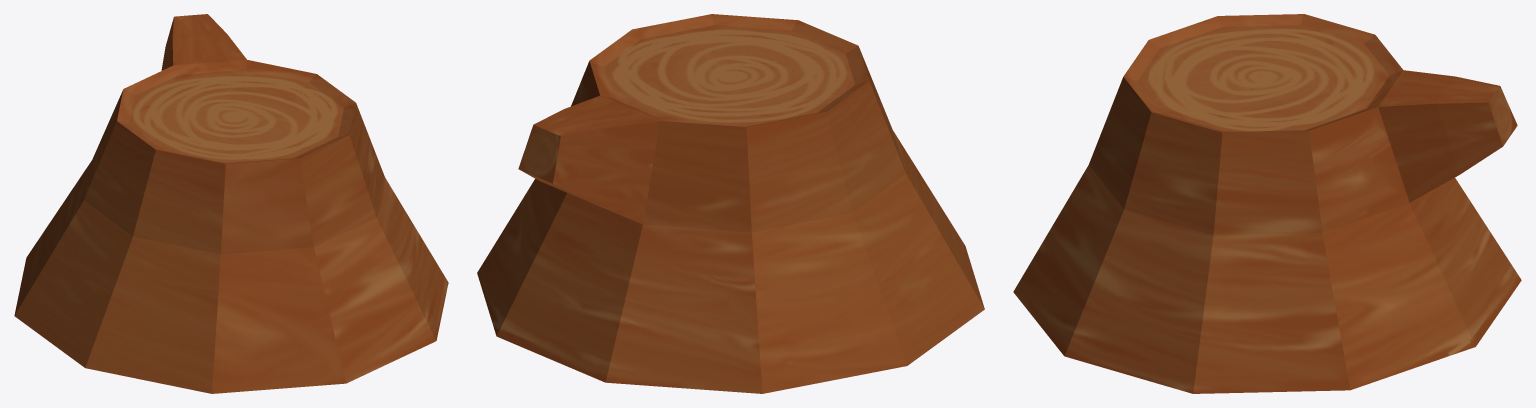
Rendered from kucuk_kutuk.fbx.
3 views of the same model, side by side, from view 1: azimuth 30°, elevation 25°; view 2: azimuth 150°, elevation 25°; view 3: azimuth 270°, elevation 25° (orthographic). The views are drawn at different scales.
Parts seen in each view (by area): view 1: kutuk zemin; view 2: kutuk zemin; view 3: kutuk zemin.
Part boxes in pixels (x1,y1,x2,y2): kutuk zemin: (14,14,448,393); kutuk zemin: (477,14,984,393); kutuk zemin: (1013,14,1521,393).
Bounding box in the file's own units: 2.33 × 1.22 × 2.44.
Materials: 1 (1 with a texture image).
